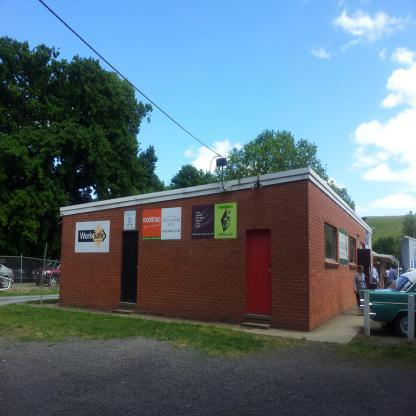car: (357, 270, 415, 339), (33, 256, 60, 286), (0, 263, 17, 290), (14, 263, 34, 281)
